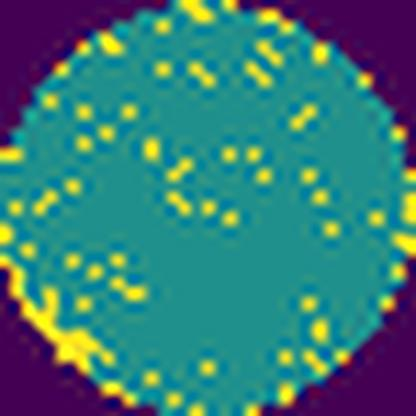Edge-Loc: (0, 247, 116, 376)
